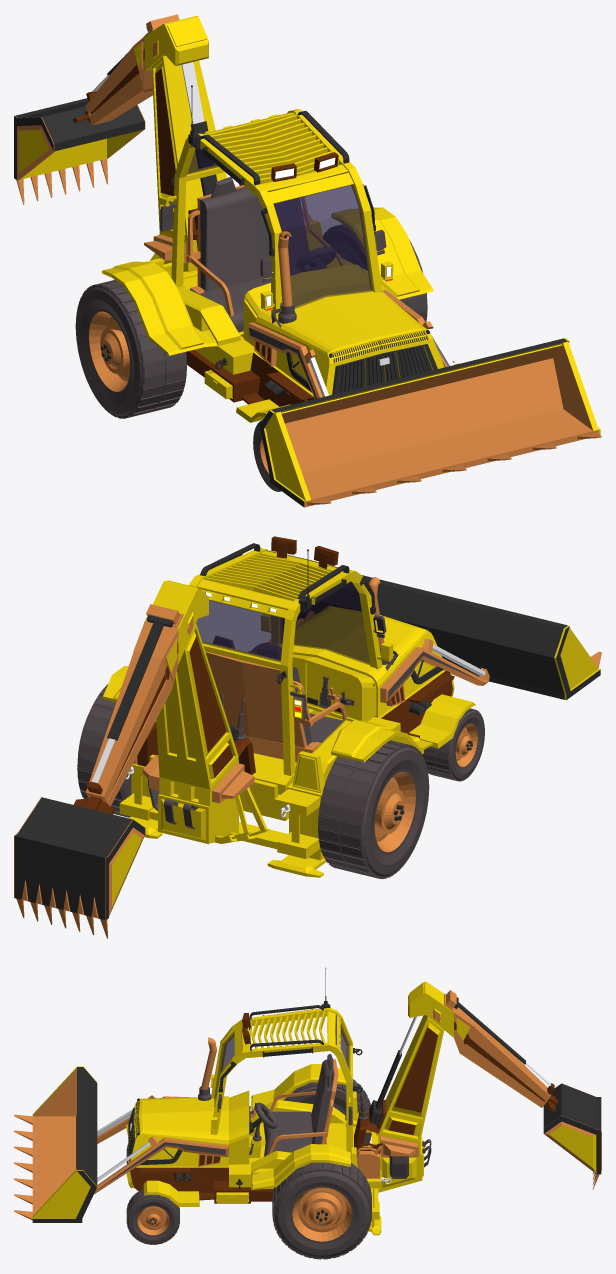
File: excavator.glb
3 views of the same model, one above another, from view 1: azimuth 30°, elevation 25°; view 2: azimuth 150°, elevation 25°; view 3: azimuth 270°, elevation 25° (orthographic). The views are drawn at different scales.
Visible parts, largest first — view 1: Body, FBucket.002, FGlass, Body.003, RWheel.002, BFemur, BBucket.001, FBucket, Body.004, BArm, BBucket.002, RWheel.Rhub (+15 smaller); view 2: Body, FBucket.001, BFemur, BBucket.001, RWheel.002, Body.002, BArm, FGlass, Cube, RWheel.Rhub, FWheel.001, BFemur.009 (+15 smaller); view 3: Body, FWheel.001, FBucket.002, BFemur, BArm, Body.003, FBucket.001, RWheelLHub, BBucket.001, BFemur.009, FBucket, FWheel (+24 smaller).
Part boxes in pixels (left/top/right/bottom): Body: left=101, top=109, right=444, bottom=399; FBucket.002: left=281, top=343, right=593, bottom=499; FGlass: left=273, top=184, right=372, bottom=308; Body.003: left=199, top=177, right=308, bottom=332; RWheel.002: left=75, top=280, right=186, bottom=418; BFemur: left=150, top=56, right=226, bottom=272; BBucket.001: left=14, top=98, right=144, bottom=179; FBucket: left=264, top=338, right=600, bottom=501; Body.004: left=332, top=344, right=437, bottom=394; BArm: left=85, top=14, right=179, bottom=125; BBucket.002: left=19, top=129, right=142, bottom=179; RWheel.Rhub: left=89, top=311, right=130, bottom=391; Body: left=101, top=548, right=454, bottom=877; FBucket.001: left=297, top=575, right=600, bottom=699; BFemur: left=156, top=623, right=270, bottom=844; BBucket.001: left=14, top=797, right=145, bottom=919; RWheel.002: left=318, top=740, right=429, bottom=879; Body.002: left=205, top=651, right=347, bottom=762; BArm: left=85, top=604, right=189, bottom=806; FGlass: left=281, top=581, right=369, bottom=665; Cube: left=196, top=596, right=284, bottom=662; RWheel.Rhub: left=374, top=771, right=415, bottom=852; FWheel.001: left=77, top=684, right=131, bottom=817; BFemur.009: left=189, top=636, right=232, bottom=777; Body: left=125, top=1008, right=381, bottom=1235; FWheel.001: left=272, top=1162, right=371, bottom=1259; FBucket.002: left=32, top=1069, right=76, bottom=1215; BFemur: left=378, top=1015, right=444, bottom=1192; BArm: left=433, top=990, right=550, bottom=1107; Body.003: left=263, top=1054, right=334, bottom=1156; FBucket.001: left=32, top=1067, right=97, bottom=1222; RWheelLHub: left=292, top=1187, right=351, bottom=1241; BBucket.001: left=543, top=1083, right=601, bottom=1174; BFemur.009: left=388, top=1027, right=437, bottom=1135; FBucket: left=32, top=1066, right=97, bottom=1218; FWheel: left=126, top=1189, right=179, bottom=1244.
Bounding box in the file's own units: 4.85 × 4.81 × 11.5.
